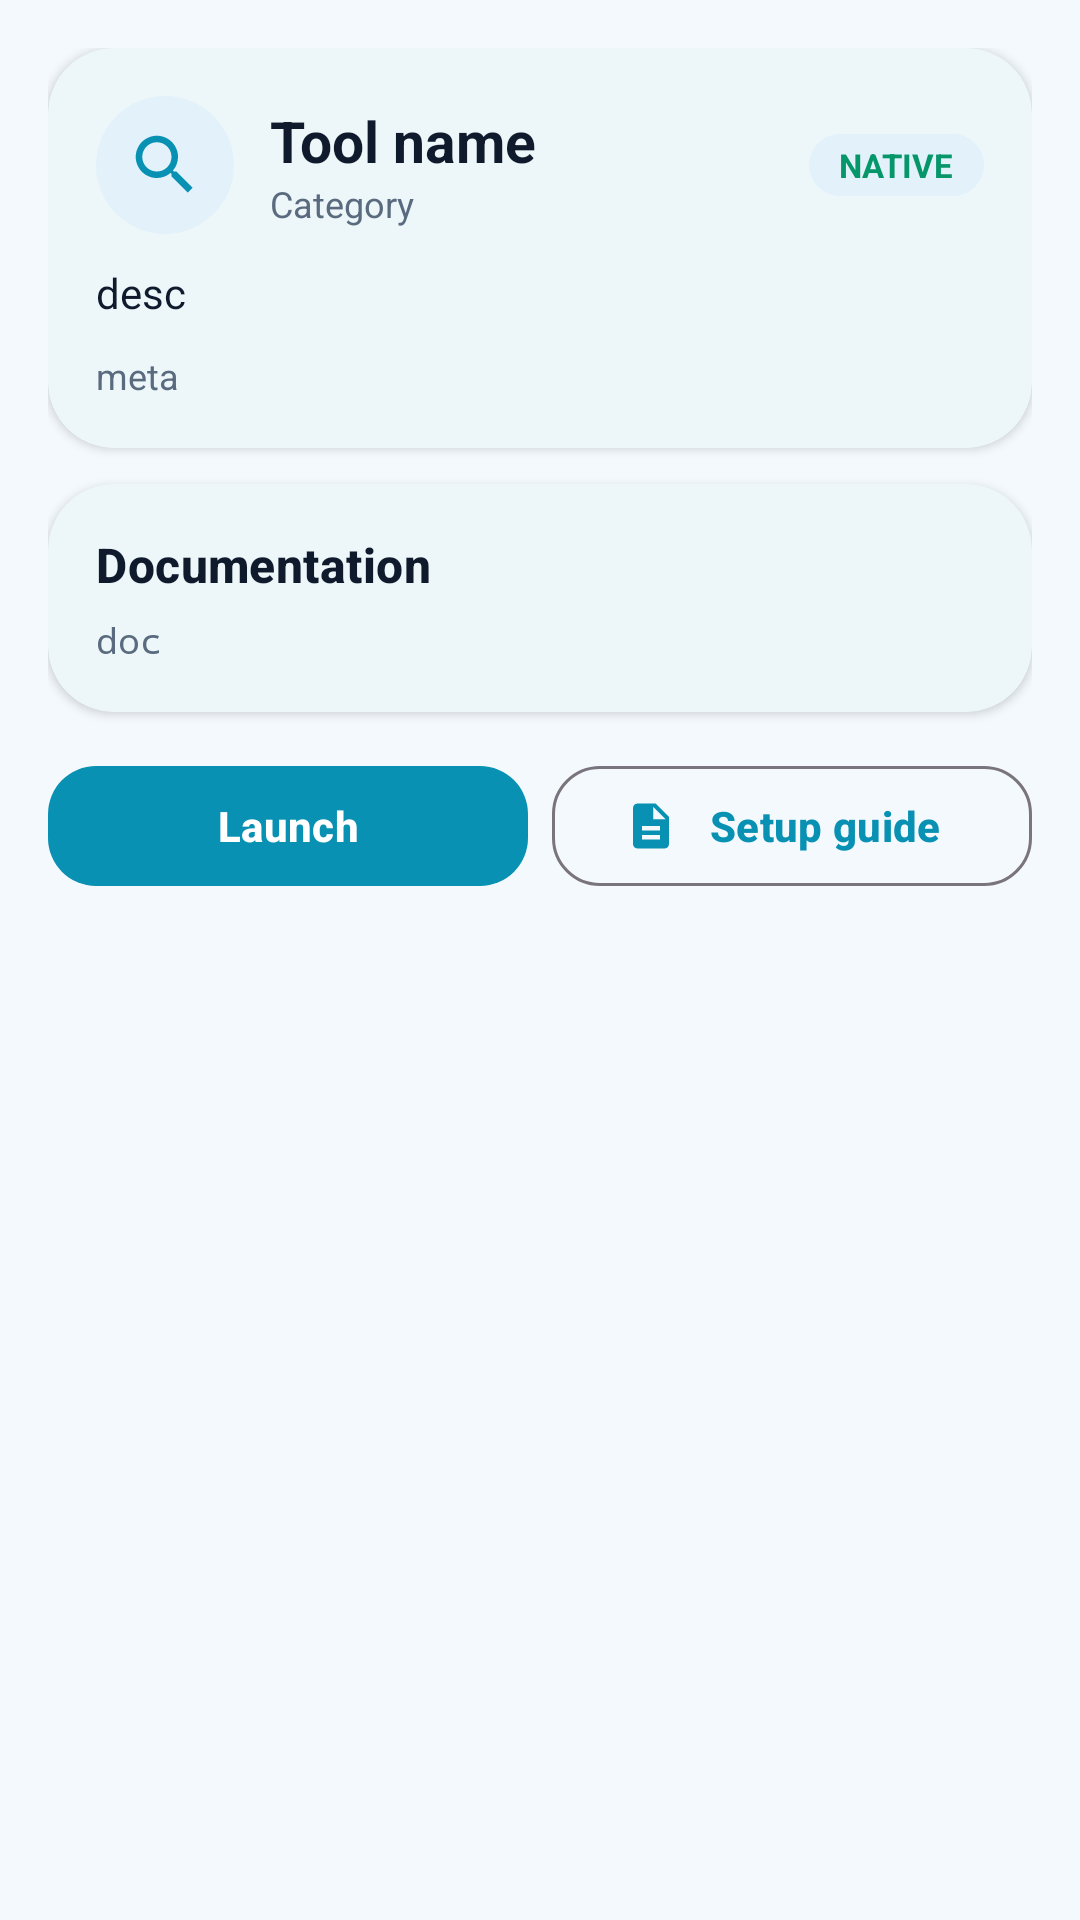

Icons on this 1080x1920 Android screen, each with the point to tap as point (x, y):
search: point (165, 165)
